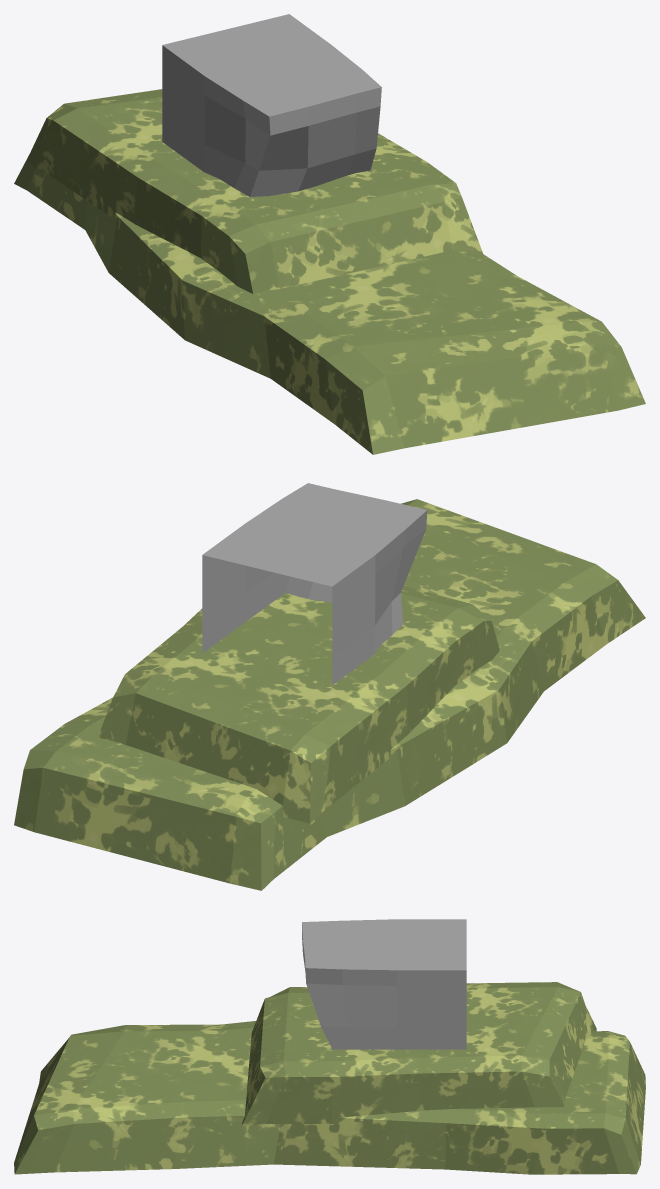
File: Terrain_01.fbx
3 views of the same model, one above another, from view 1: azimuth 30°, elevation 25°; view 2: azimuth 150°, elevation 25°; view 3: azimuth 270°, elevation 25° (orthographic). The views are drawn at different scales.
Visible parts, largest first — view 1: GrassTerrain_02, GrassTerrain_01, Cliff_Edge; view 2: GrassTerrain_02, GrassTerrain_01, Cliff_Edge; view 3: GrassTerrain_02, GrassTerrain_01, Cliff_Edge.
Boxes of the visible parts, <box> form: GrassTerrain_02: <box>14,156,645,454</box>; GrassTerrain_01: <box>26,89,482,293</box>; Cliff_Edge: <box>162,14,381,196</box>; GrassTerrain_02: <box>14,499,645,890</box>; GrassTerrain_01: <box>98,586,499,823</box>; Cliff_Edge: <box>202,483,427,684</box>; GrassTerrain_02: <box>14,1021,645,1174</box>; GrassTerrain_01: <box>242,982,596,1125</box>; Cliff_Edge: <box>302,919,466,1049</box>.
Bounding box in the file's own units: 6.49 × 4.49 × 14.99.
